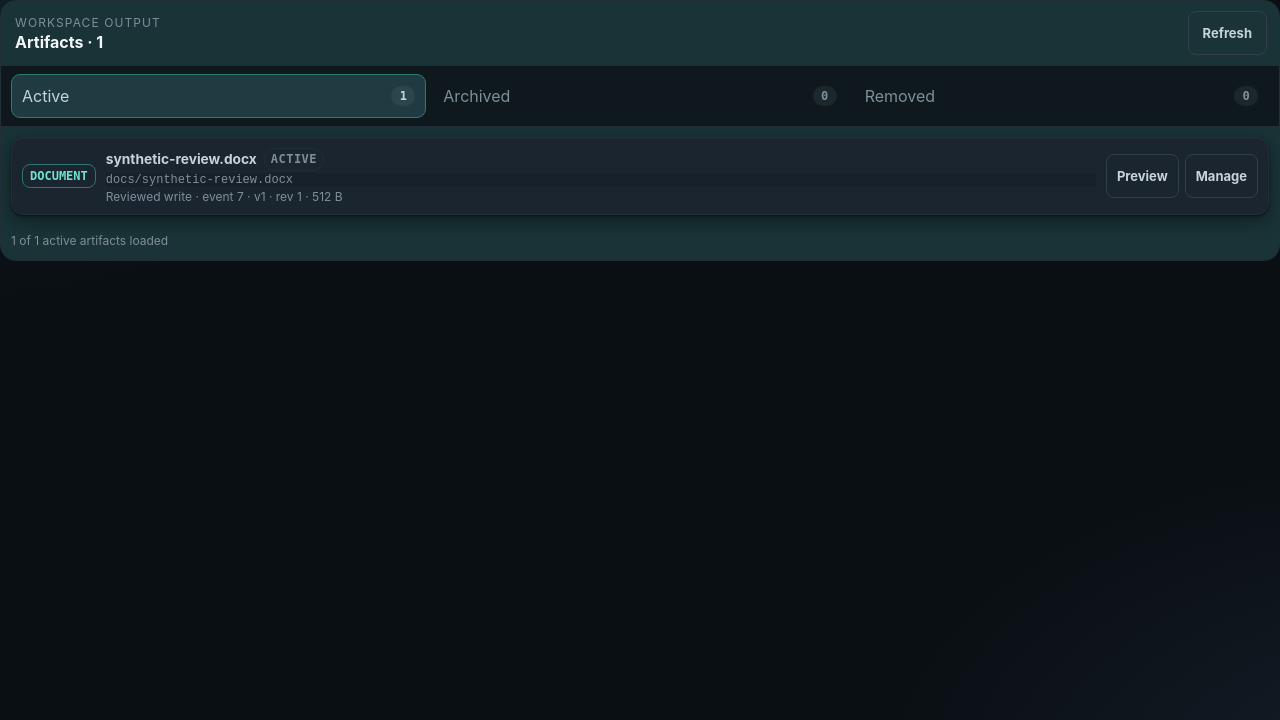
Test case: AgentArtifactsPanel › renders a bounded Office projection and routes owned-file actions without fetching raw bytes
Later steps or results of the test are not shown.
What coordinates should you click on to do the following:
click the button with aria-label "Preview synthetic-review.docx"
I would click on:
 (1142, 176)
Its box is [1106, 154, 1179, 198].
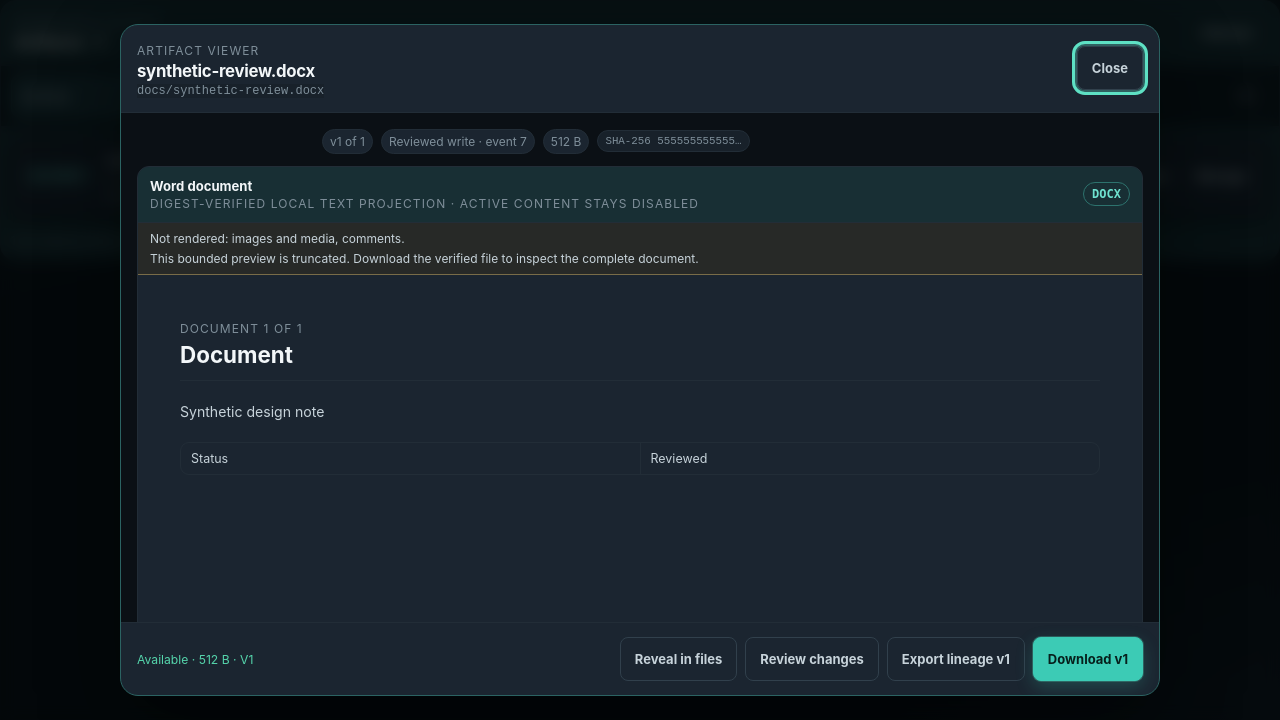
Check: the element named "Word document preview of synthetic-review.docx v1" is shown, box [137, 166, 1143, 622]
Check: the text "Synthetic design note" is shown, box [180, 403, 324, 420]
Check: the table named "Document table projection" reads "Status Reviewed", box [181, 443, 1099, 474]
What coordinates should you click on to do the following:
click the button "Reveal in files"
I would click on:
 (679, 659)
Its box is [620, 637, 737, 681].
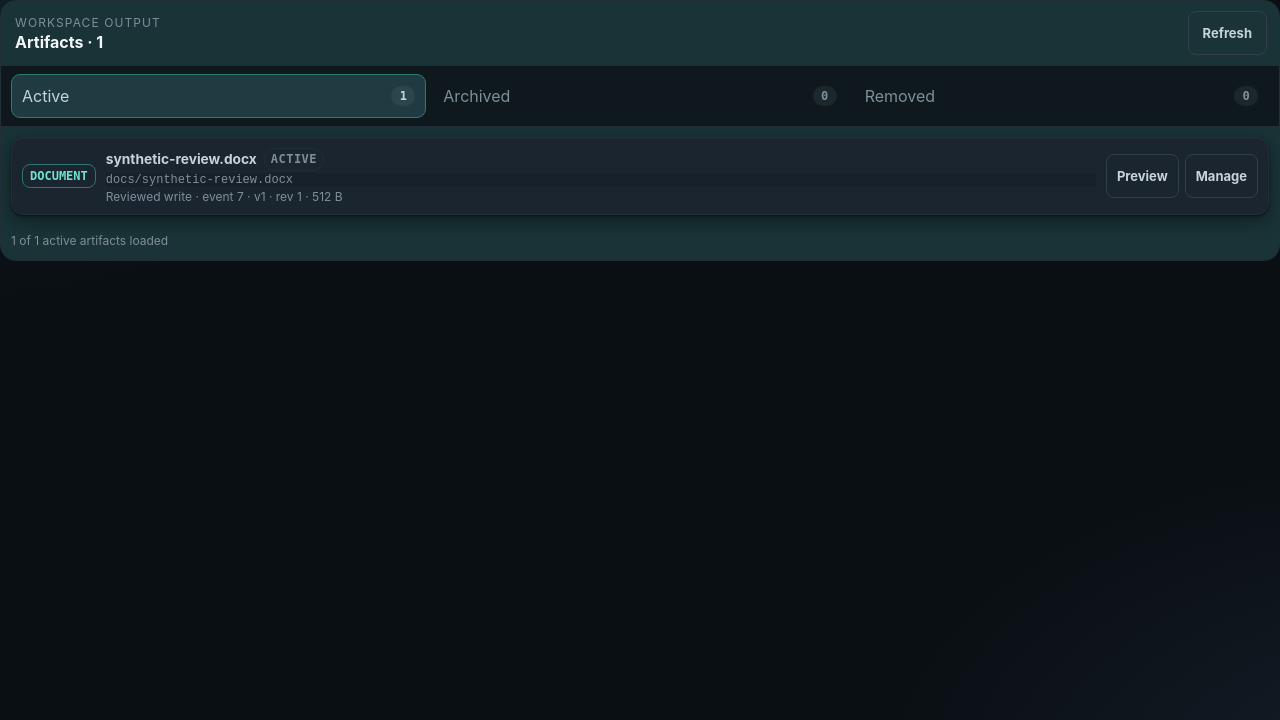
What coordinates should you click on to do the following:
click the button with aria-label "Preview synthetic-review.docx"
I would click on:
 (1142, 176)
Its box is [1106, 154, 1179, 198].
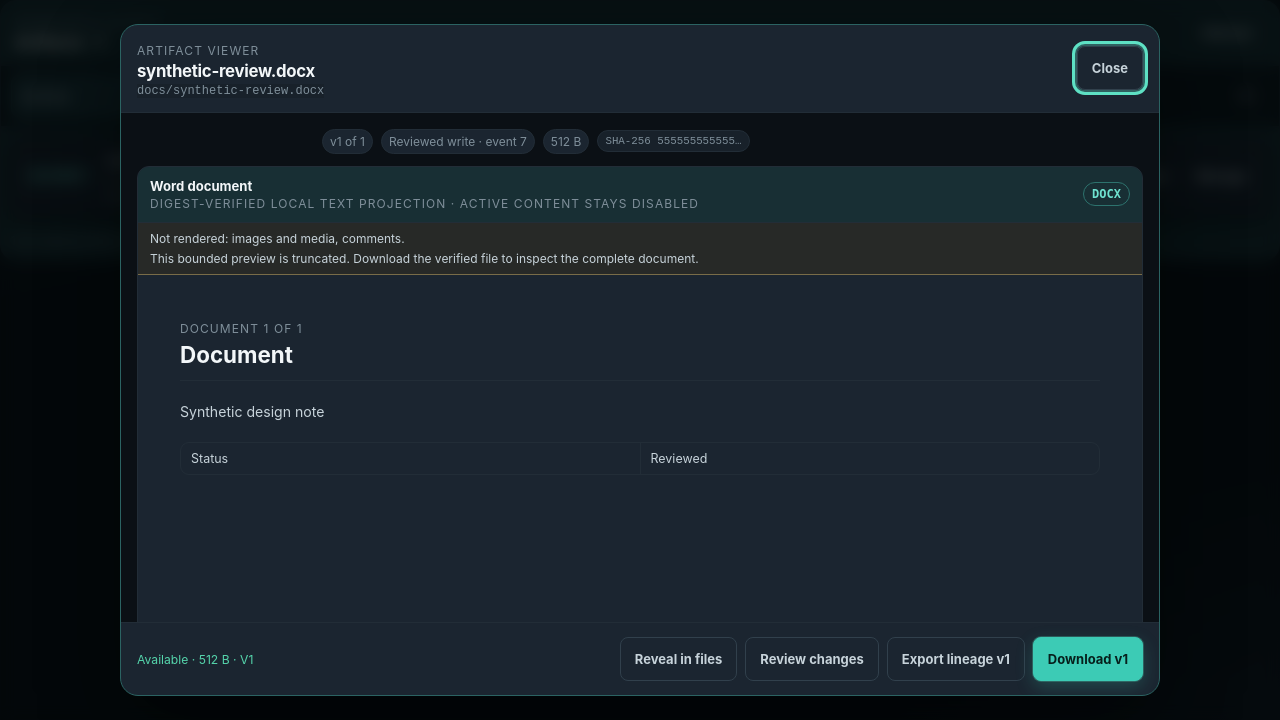
Check: the element named "Word document preview of synthetic-review.docx v1" is shown, box [137, 166, 1143, 622]
